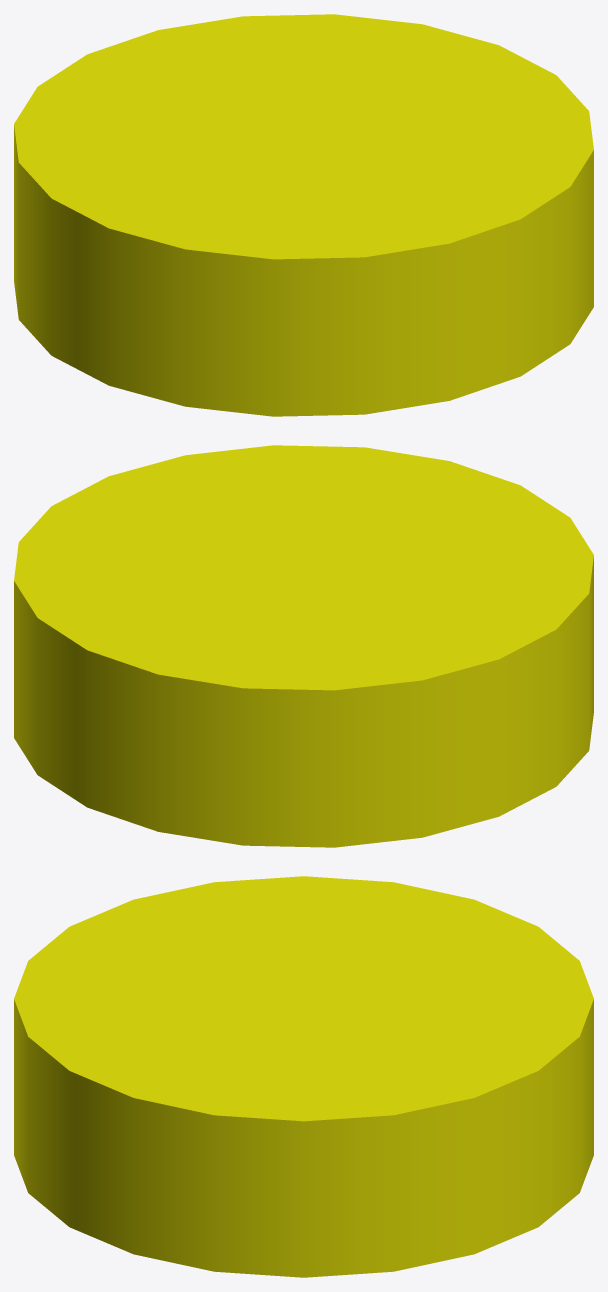
File: Yellow Coin U.fbx
3 renders of one model, top to bottom at view 1: azimuth 30°, elevation 25°; view 2: azimuth 150°, elevation 25°; view 3: azimuth 270°, elevation 25°, orthographic.
Visible parts, largest first — view 1: pCylinder1; view 2: pCylinder1; view 3: pCylinder1.
Boxes of the visible parts, x1,y1,x2,y2 form: pCylinder1: (14, 14, 593, 416); pCylinder1: (14, 445, 593, 847); pCylinder1: (14, 876, 593, 1277).
Size of the model in its own units: 2 by 0.5952 by 2.
